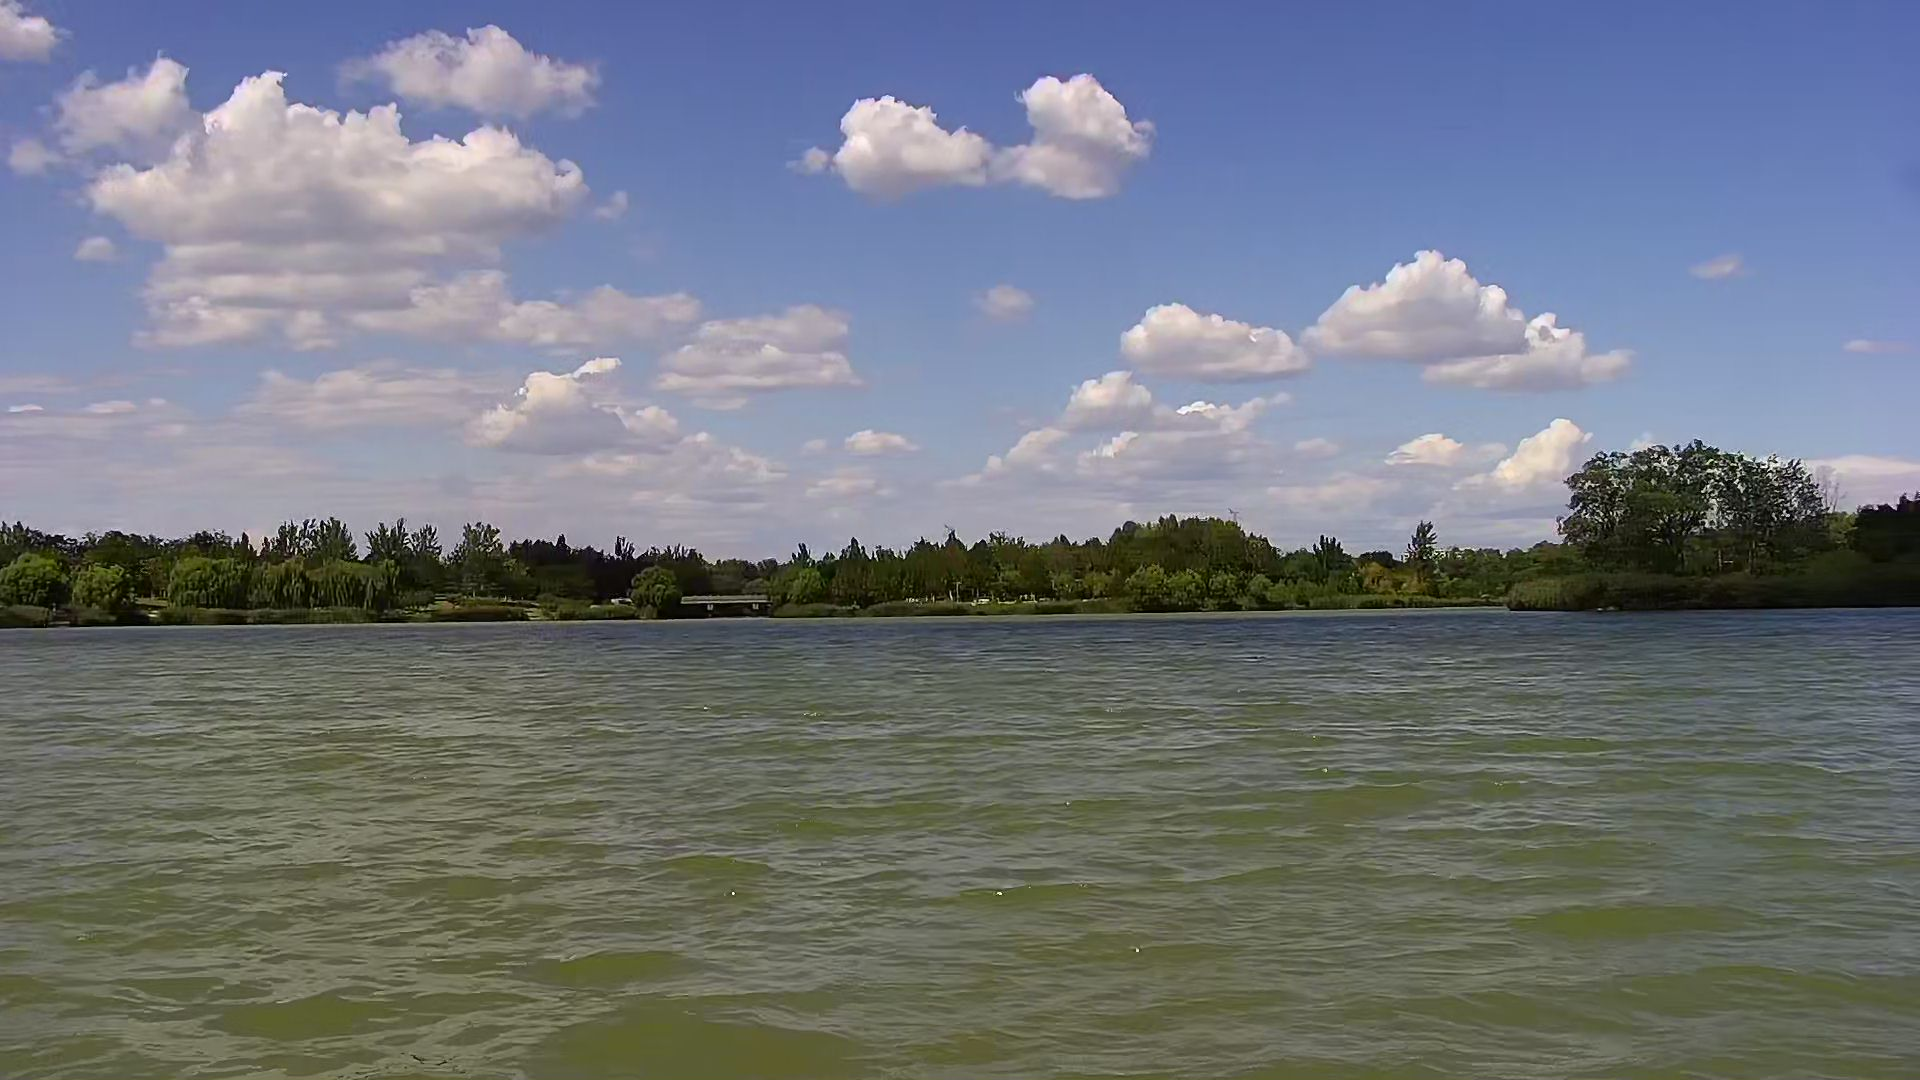bridge: (678, 593, 781, 621)
